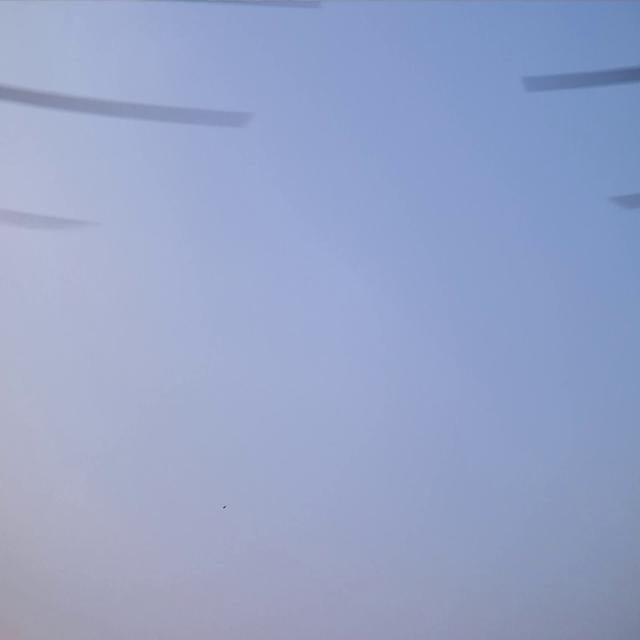UAV: (222, 504, 226, 510)
